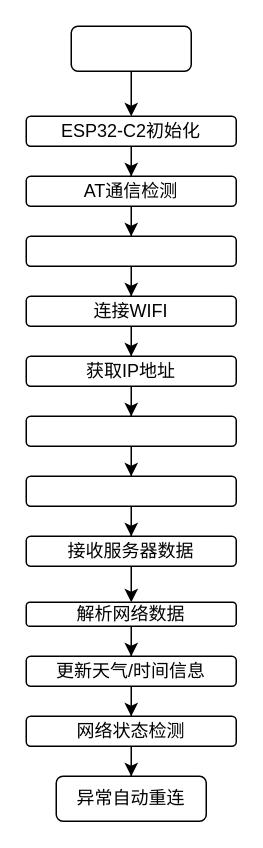
Image size: 263x848. Some labels were removed from this diagram. The shapes that lost their labels are listed below. From the top down, each one's centre as x and y in pixels, then its label:
[130,48]: 系统启动
[130,250]: 配置WIFI模式
[130,430]: 建立TCP连接
[130,490]: 发送HTTP请求
